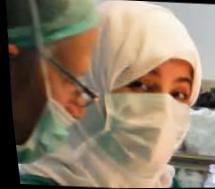OK: (80, 54, 202, 171)
WRONG: (7, 65, 92, 170)
